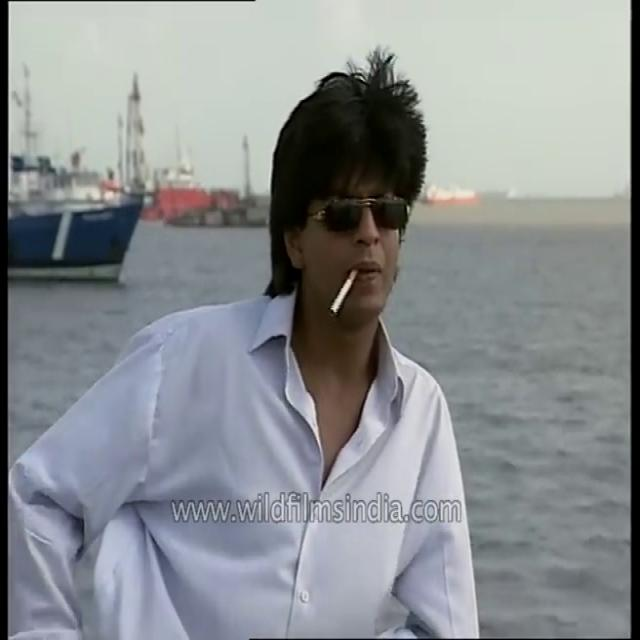Smooking: (321, 263, 364, 323)
